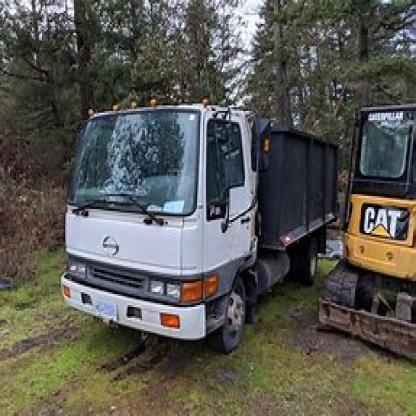dump_truck: (49, 94, 342, 366)
